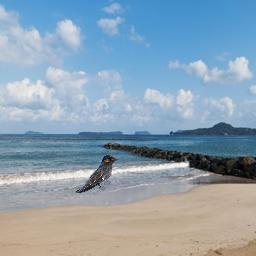Swallow: (75, 155, 118, 193)
